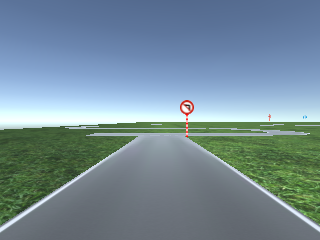0: (1, 190, 320, 238)
NoLeft: (179, 100, 194, 114)
